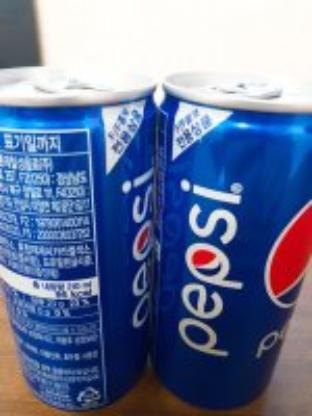Can: (0, 64, 160, 414), (152, 72, 312, 416)
